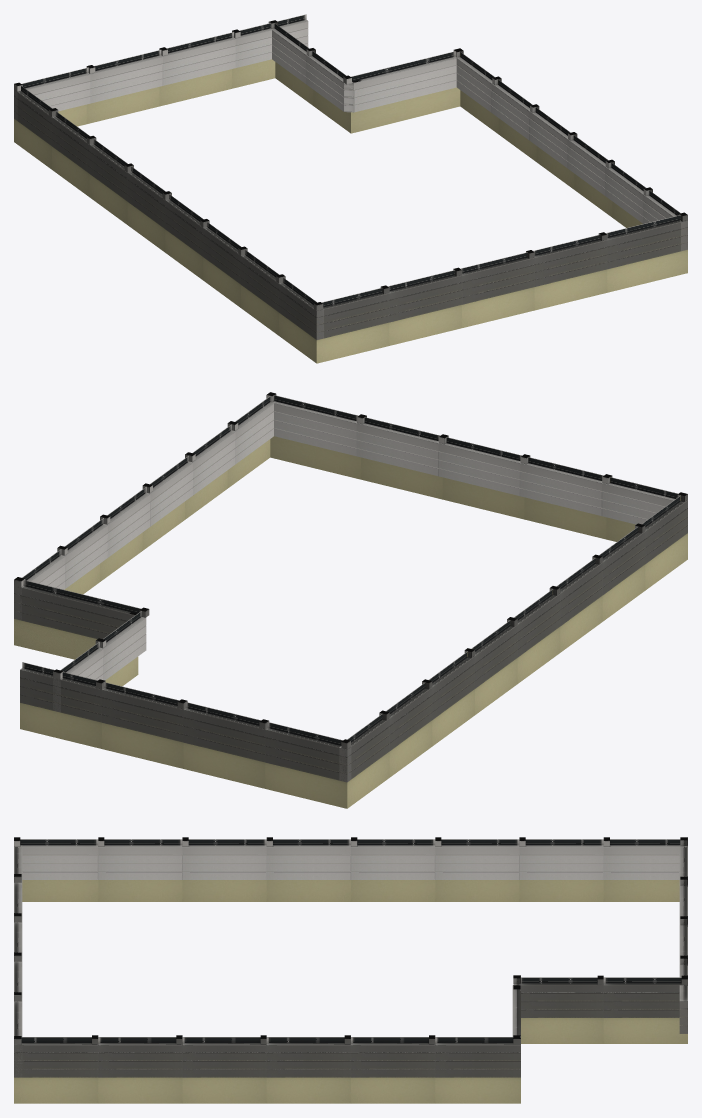
The model's file is Walls.glb.
3 renders of one model, top to bottom at view 1: azimuth 30°, elevation 25°; view 2: azimuth 150°, elevation 25°; view 3: azimuth 270°, elevation 25°, orthographic. The views are drawn at different scales.
Parts seen in each view (by area): view 1: Walls; view 2: Walls; view 3: Walls.
Boxes of the visible parts, x1,y1,x2,y2 form: Walls: (14,14,687,363); Walls: (14,392,687,808); Walls: (14,837,687,1103).
Bounding box in the file's own units: 53.4 × 8 × 75.45.
1 material, 1 textured.
